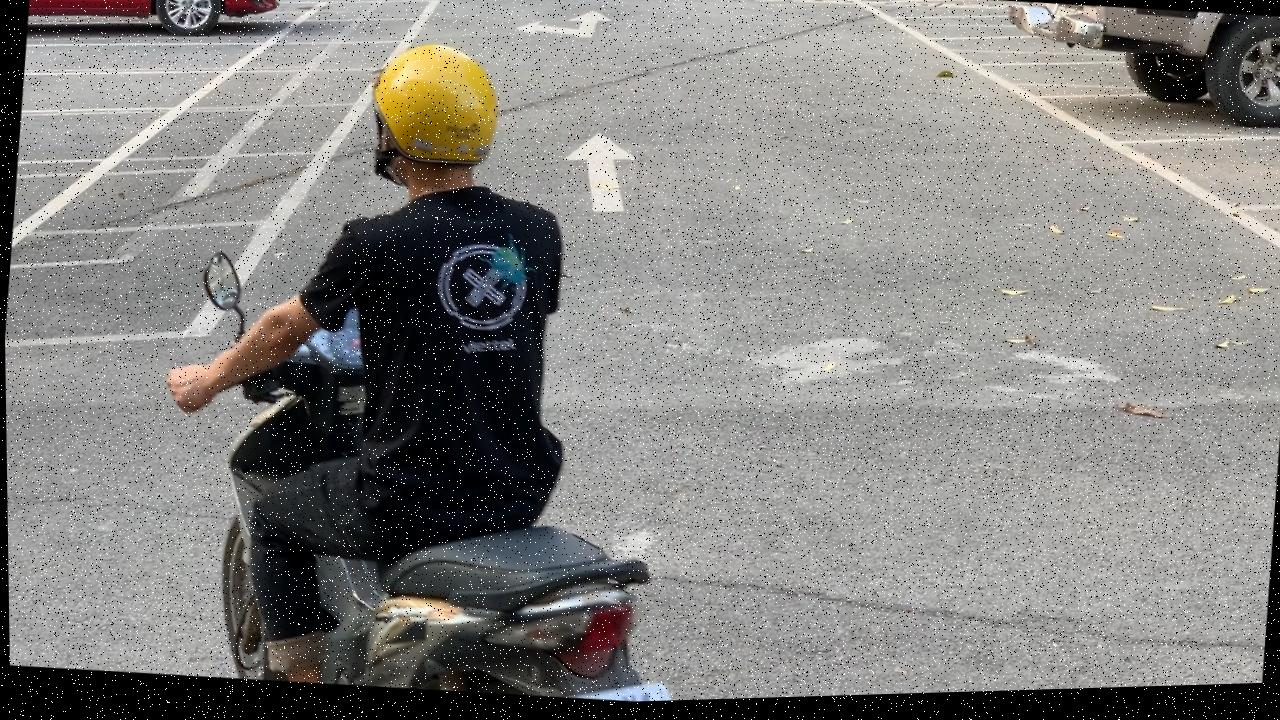helmet: (366, 38, 503, 173)
motorcyclist: (140, 18, 719, 717)
